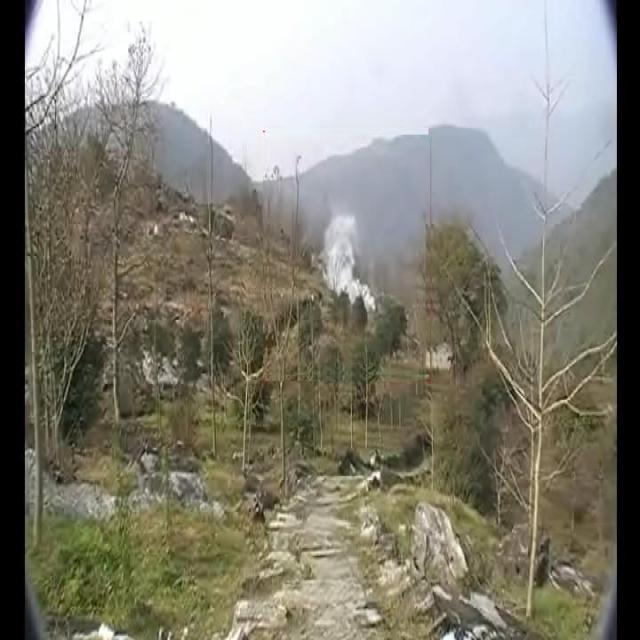smoke: (317, 211, 377, 313)
